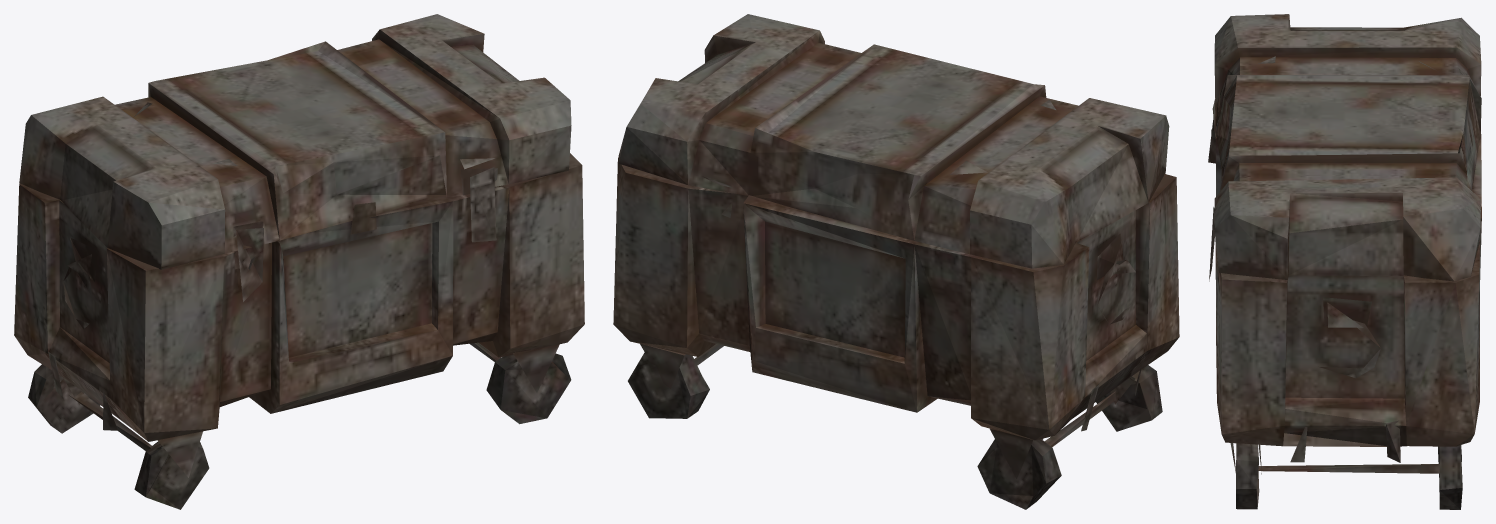
File: capture.supply_crate.glb
3 views of the same model, side by side, from view 1: azimuth 30°, elevation 25°; view 2: azimuth 150°, elevation 25°; view 3: azimuth 270°, elevation 25° (orthographic). The views are drawn at different scales.
Parts seen in each view (by area): view 1: body; view 2: body; view 3: body.
Part boxes in pixels (<box>): body: <box>14,14,584,509</box>; body: <box>613,14,1179,509</box>; body: <box>1208,14,1481,509</box>.
Bounding box in the file's own units: 0.85 × 0.5808 × 0.4655.
1 material, 1 textured.
